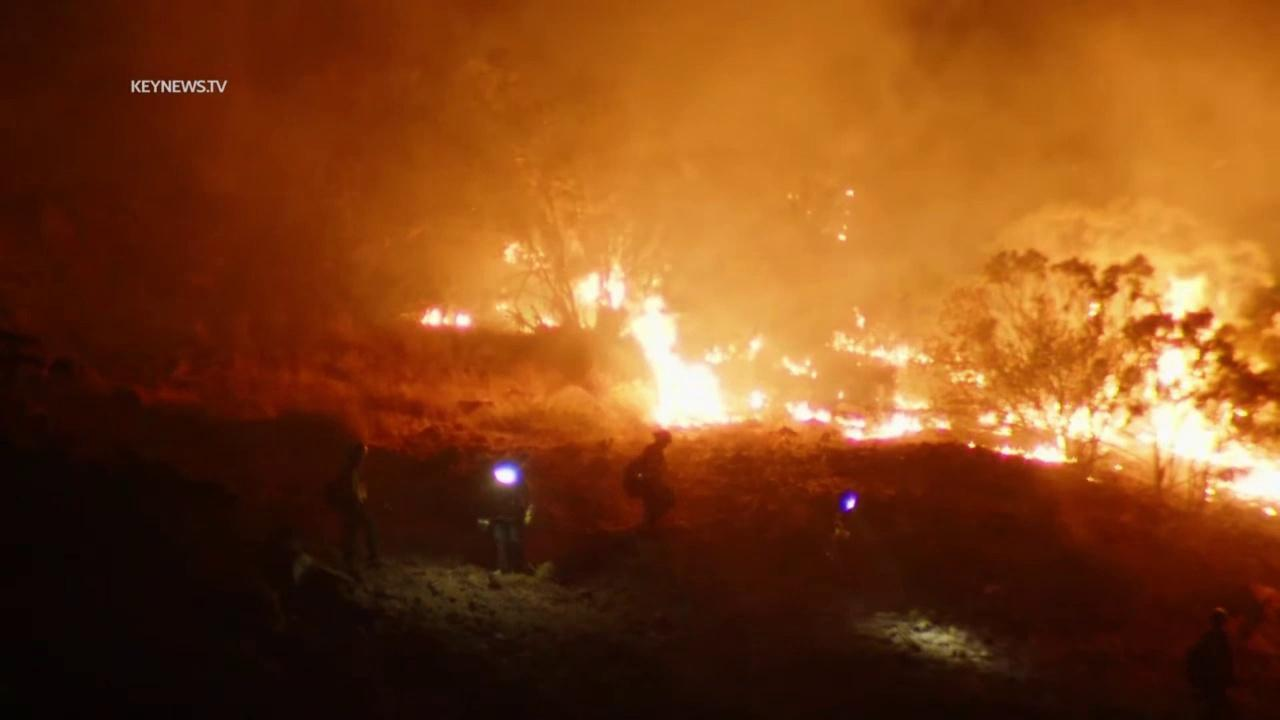fire: (963, 273, 1280, 519), (620, 289, 742, 440), (782, 383, 955, 442), (825, 305, 938, 367), (574, 257, 626, 310), (495, 232, 555, 274), (415, 307, 476, 334), (780, 352, 818, 380), (948, 364, 987, 389), (747, 387, 771, 416), (745, 331, 763, 360), (532, 314, 561, 331)
smoke: (0, 0, 1280, 549)
